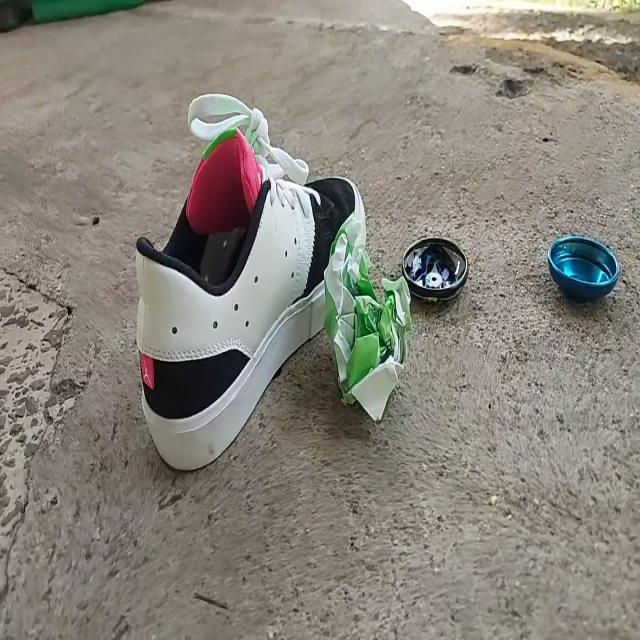paper: (318, 211, 414, 433)
